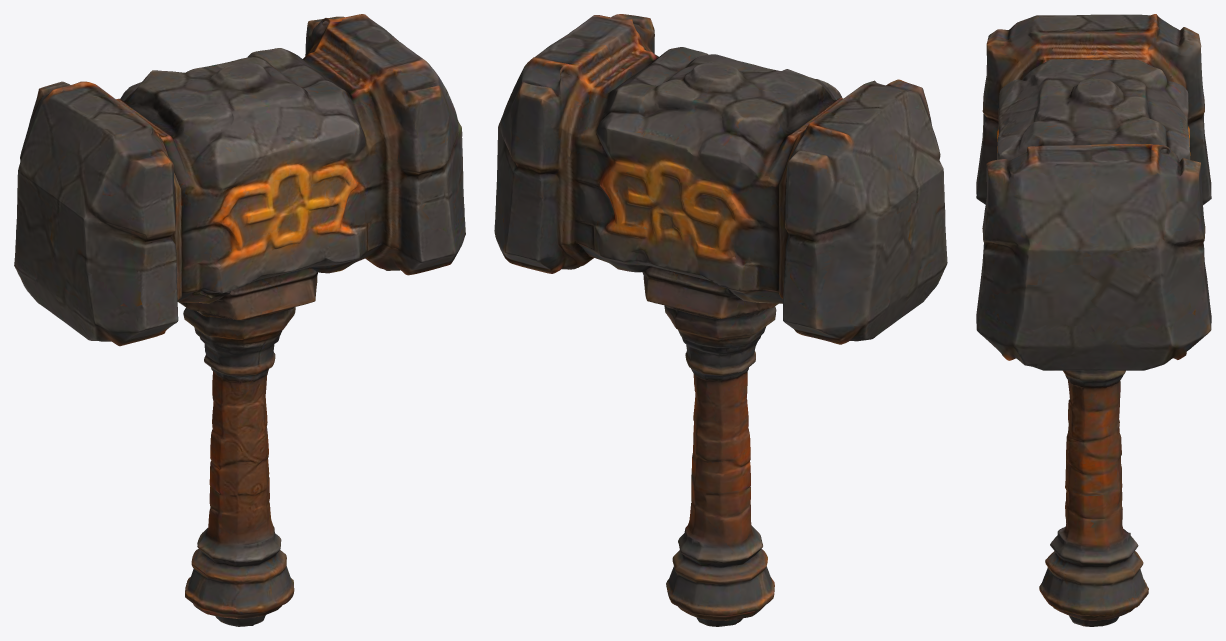
File: PF_Hammer2.glb
3 renders of one model, left to right at view 1: azimuth 30°, elevation 25°; view 2: azimuth 150°, elevation 25°; view 3: azimuth 270°, elevation 25°, orthographic. The views are drawn at different scales.
Bounding box in the file's own units: 1.45 × 2 × 0.8024.
1 material, 1 textured.
